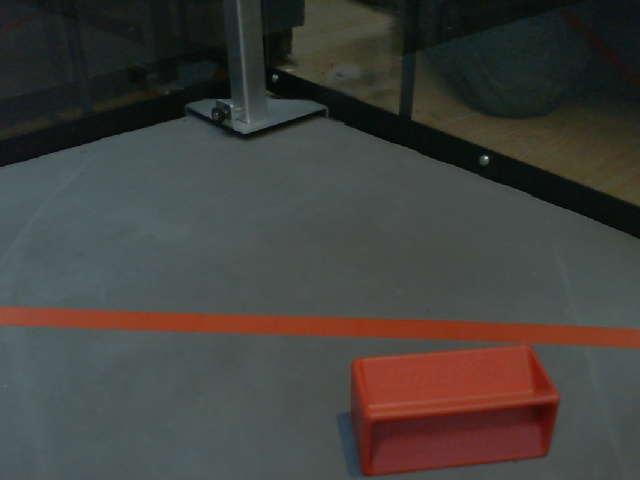RedSample: (344, 338, 563, 476)
